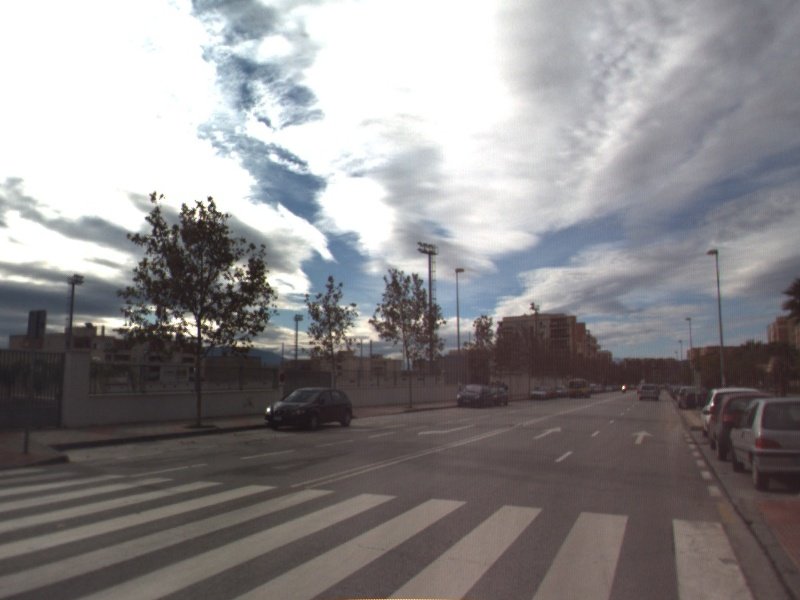STRAIGHT: (531, 424, 563, 441), (629, 428, 656, 446)
